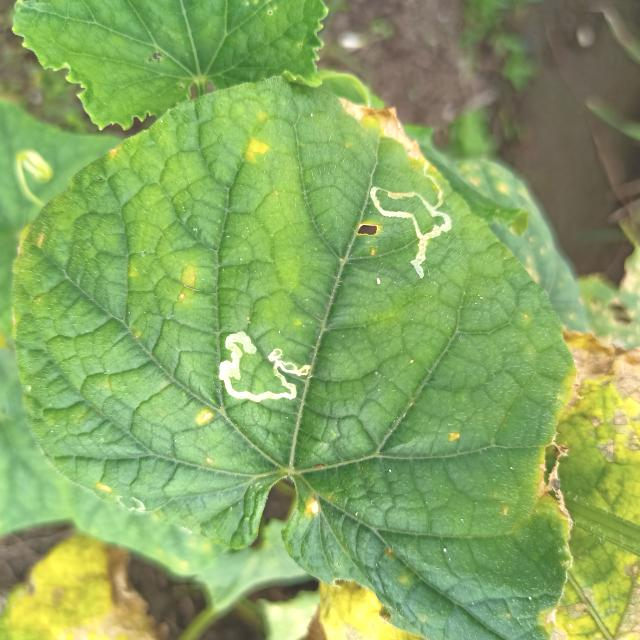disease_cucumber: (245, 101, 274, 164), (8, 229, 48, 264), (177, 264, 198, 306), (195, 406, 214, 427), (304, 493, 318, 519), (446, 426, 463, 444), (99, 480, 112, 495)
